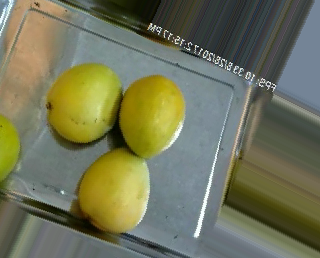Mango: (79, 146, 150, 231), (44, 63, 118, 141), (119, 74, 185, 157)
